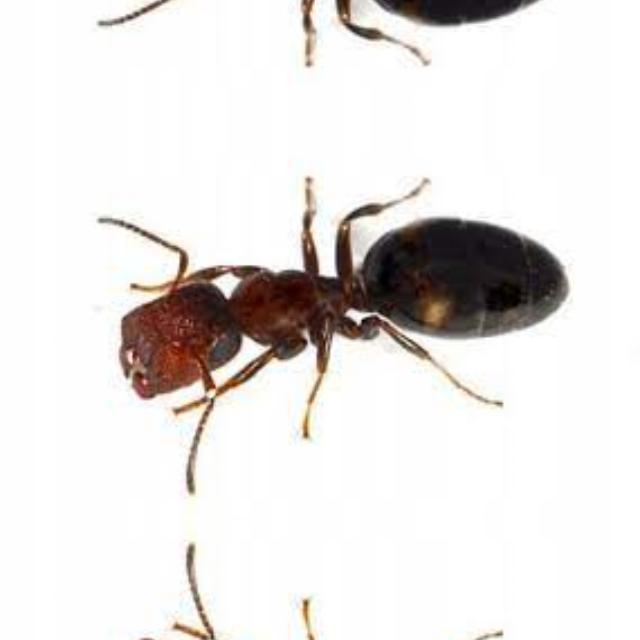Colobopsis: (74, 176, 614, 430), (74, 0, 614, 66)
